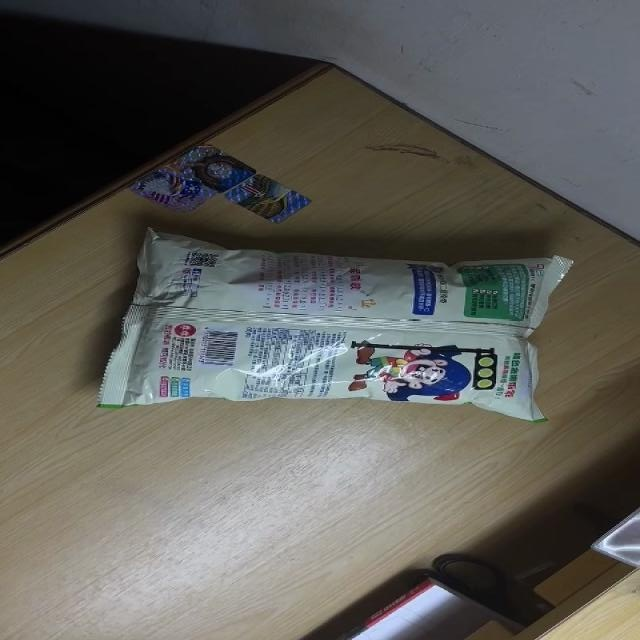Good-Luck: (95, 226, 576, 423)
